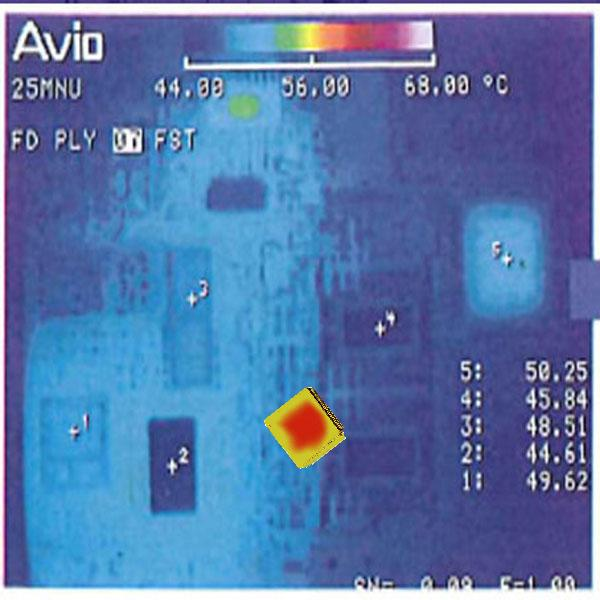componente_T: (262, 384, 348, 471), (286, 24, 351, 52)
